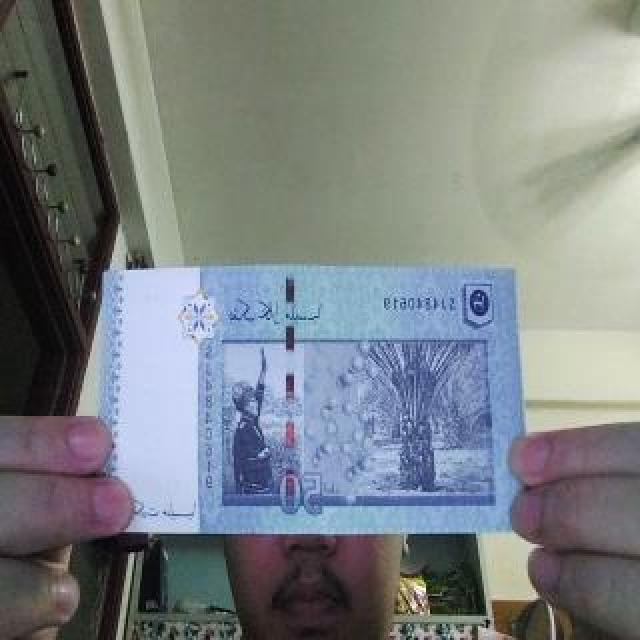50 Ringgit: (80, 252, 535, 541)
